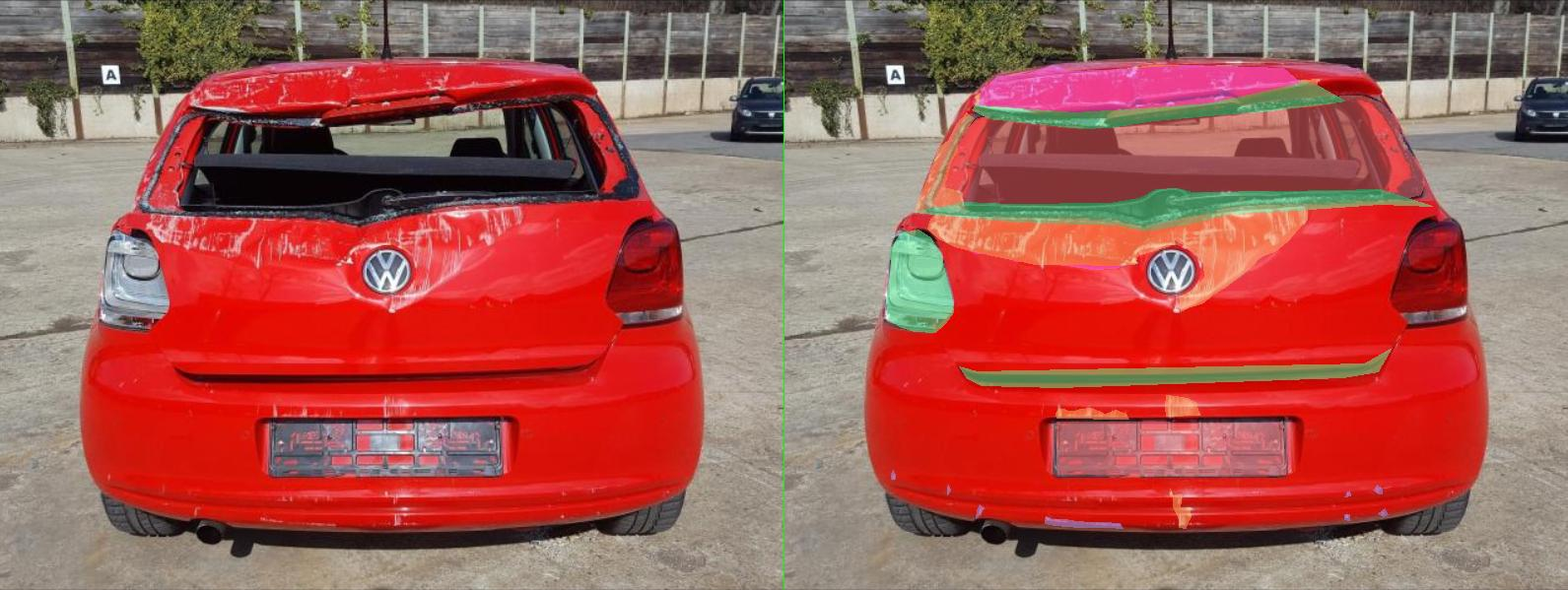Broken part: (258, 188, 1296, 230), (375, 77, 1120, 128), (349, 348, 1215, 387), (203, 229, 337, 332)
Dent: (306, 203, 755, 269), (389, 65, 1032, 111), (830, 199, 1010, 263)
Missing part: (294, 96, 1280, 224), (544, 422, 1002, 474)
Paint chip: (286, 196, 1067, 311), (381, 65, 1065, 114), (260, 112, 379, 217), (771, 489, 813, 528), (542, 408, 688, 419), (761, 395, 830, 416)
Scratch: (521, 516, 677, 528), (383, 504, 398, 518), (1187, 508, 1207, 516), (1179, 485, 1195, 493), (213, 470, 221, 479), (1120, 491, 1132, 496), (1120, 514, 1130, 520), (325, 485, 331, 494)
